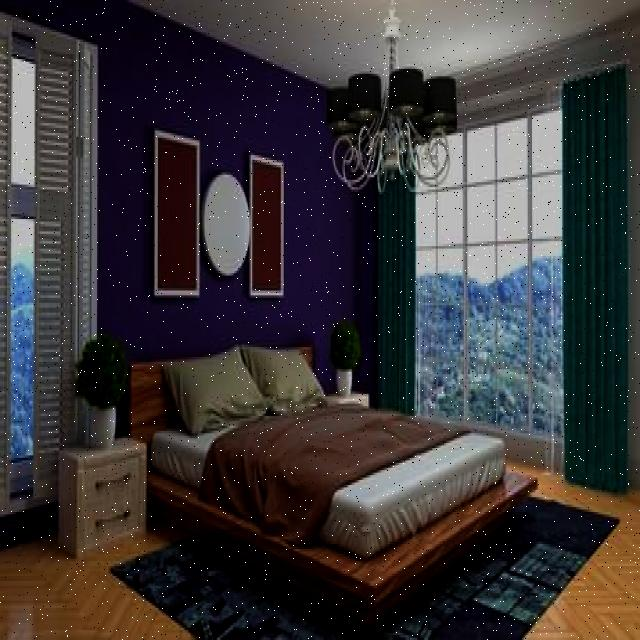bed: (131, 342, 534, 568)
